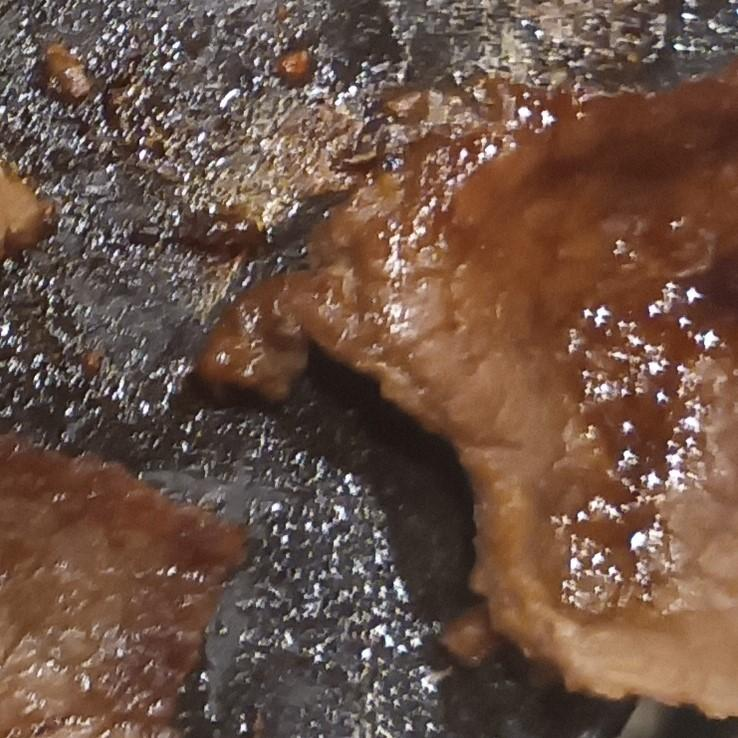Overcooked: (195, 37, 737, 722), (0, 435, 249, 737)
